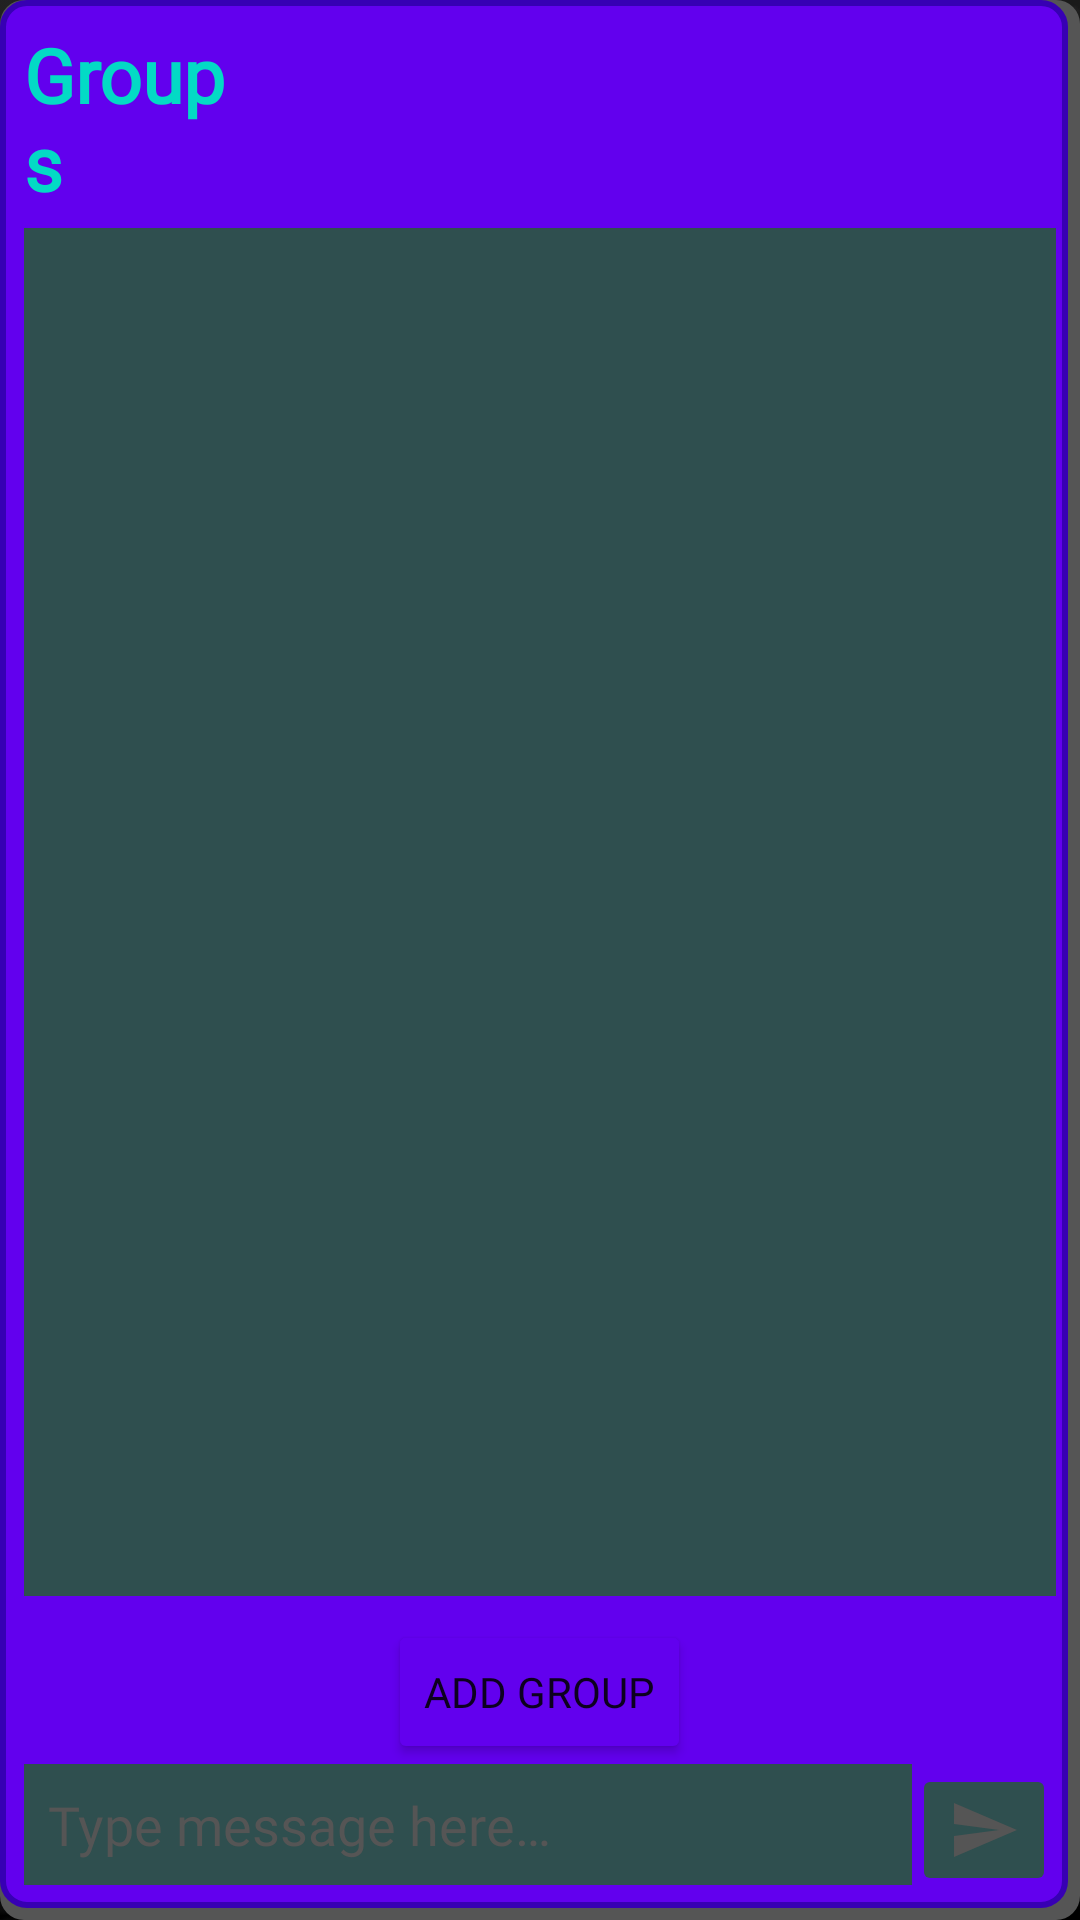

Icons on this 1080 x 1920 Android screen, each with the point to tap as (x,y):
Send message: (984,1830)
